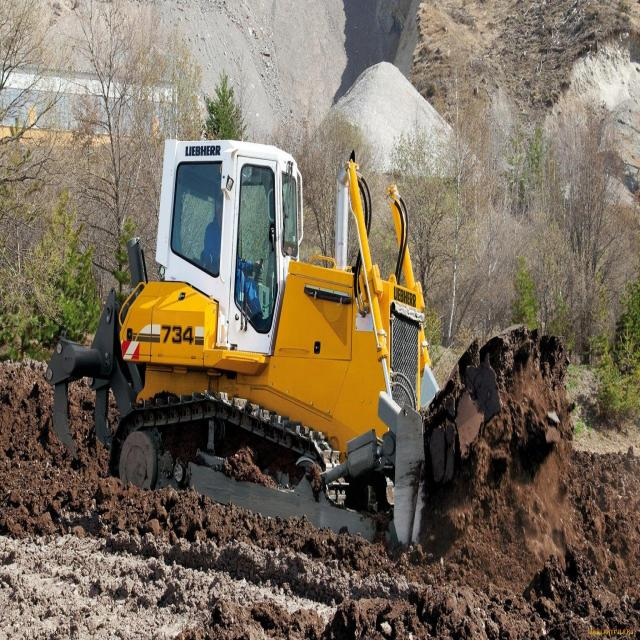Bulldozer: (54, 105, 588, 579)
